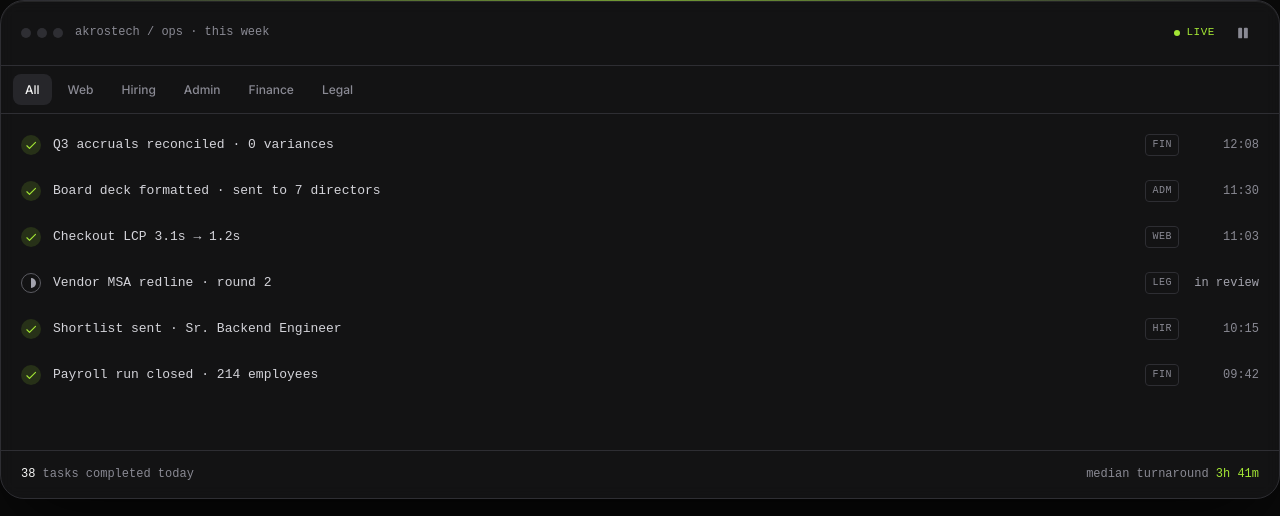
it: <OpsFeed /> › filters rows by service
The width and height of the screenshot is (1280, 516).
What coordinates should you click on to do the following:
click the tab "Finance"
I would click on:
 (271, 90)
Its box is [237,74,306,105].
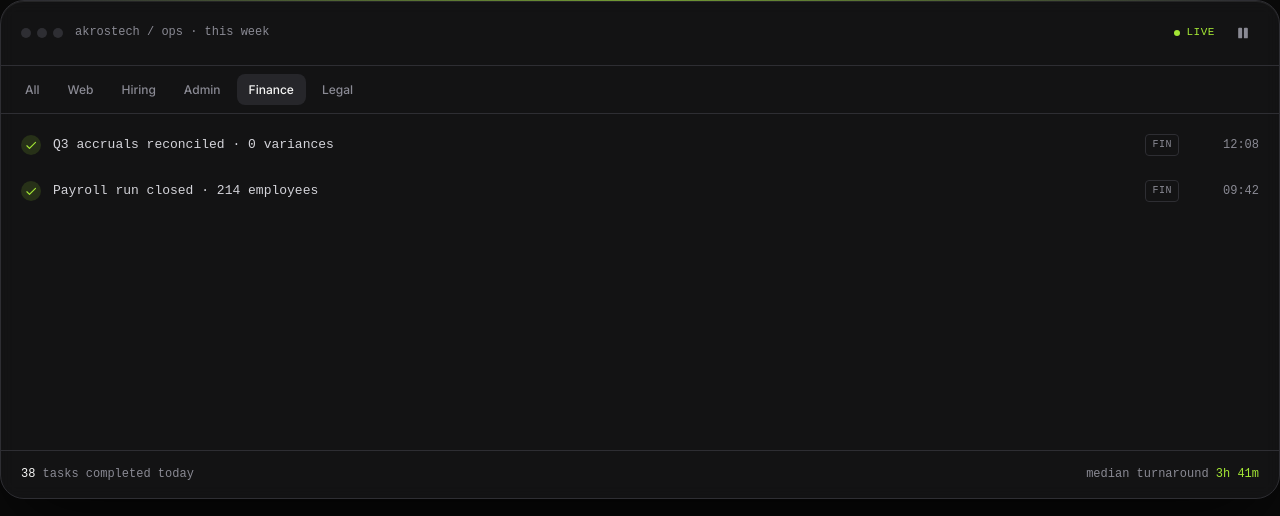
Check: the list item "Q3 accruals reconciled · 0 variances FIN 12:08" is shown, box [21,134,1259,156]
Check: the number of list items is 2, box [21,134,1259,156]; [21,180,1259,202]
